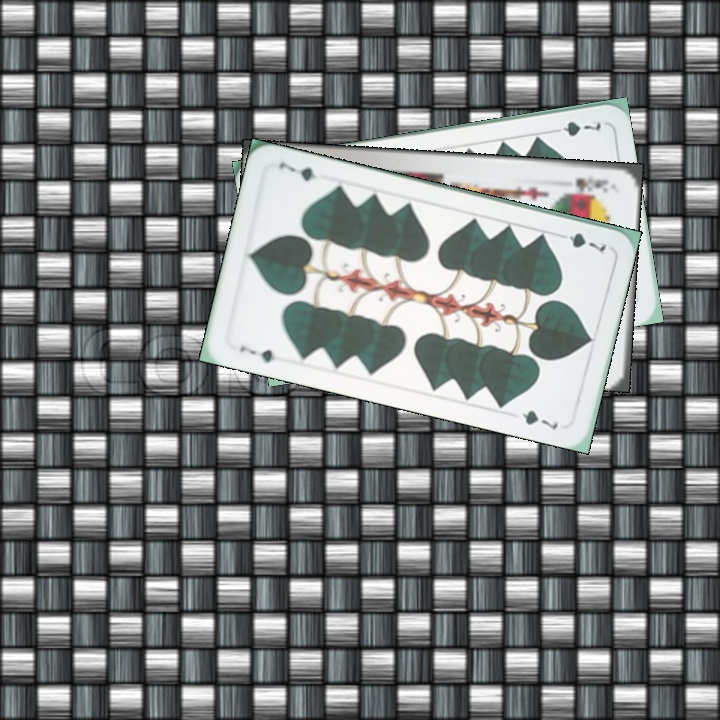G7: (552, 228, 609, 257), (546, 117, 604, 139), (236, 342, 285, 366)
SK: (571, 173, 610, 195)
